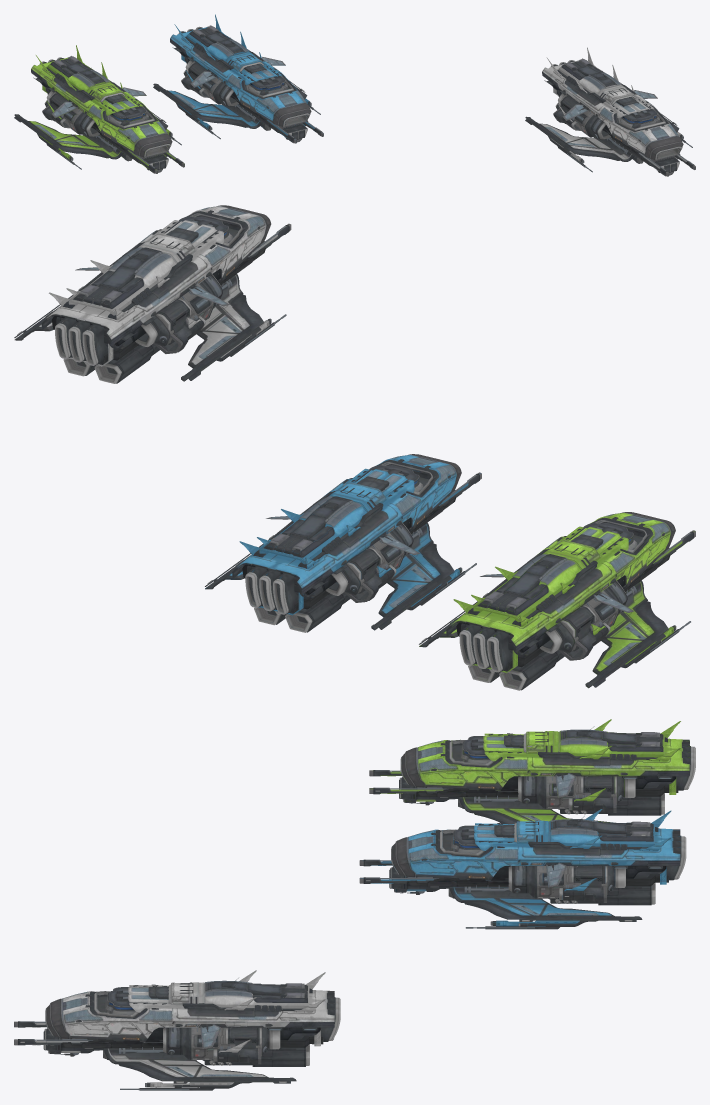
The model's file is spaceship-test_lod6.glb.
The picture shows the model from 3 angles, top to bottom: view 1: azimuth 30°, elevation 25°; view 2: azimuth 150°, elevation 25°; view 3: azimuth 270°, elevation 25°; orthographic projection. The views are drawn at different scales.
Parts seen in each view (by area): view 1: Cube.034, Cube.005, Cube.007; view 2: Cube.007, Cube.005, Cube.034; view 3: Cube.034, Cube.007, Cube.005.
Boxes of the visible parts, x1,y1,x2,y2 form: Cube.034: (153,14,323,143); Cube.005: (14,45,184,173); Cube.007: (525,47,695,176); Cube.007: (14,205,291,383); Cube.005: (419,512,695,690); Cube.034: (205,454,481,632); Cube.034: (359,809,686,929); Cube.007: (14,970,340,1090); Cube.005: (369,719,695,823).
Bounding box in the file's own units: 120 × 13.49 × 107.
Materials: 3 (3 with a texture image).
